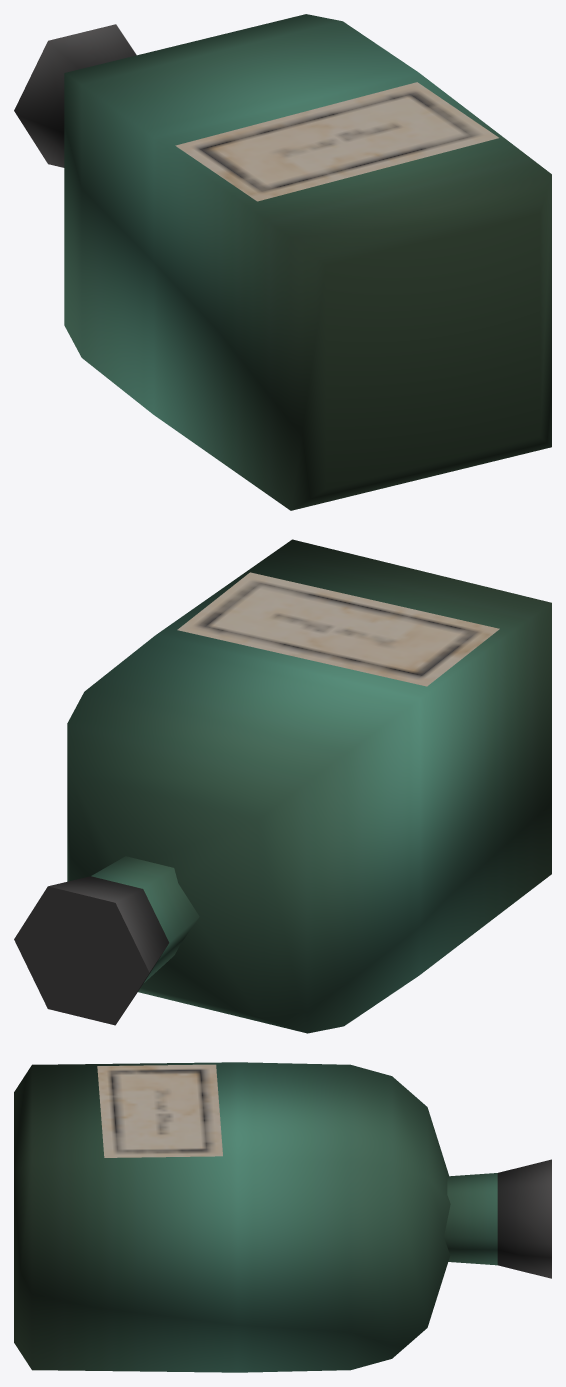
The model's file is Bottle_C.fbx.
3 views of the same model, one above another, from view 1: azimuth 30°, elevation 25°; view 2: azimuth 150°, elevation 25°; view 3: azimuth 270°, elevation 25° (orthographic). The views are drawn at different scales.
Parts seen in each view (by area): view 1: Bottle_C; view 2: Bottle_C; view 3: Bottle_C.
Part boxes in pixels (x1=…): Bottle_C: x1=14, y1=14, x2=551, y2=510; Bottle_C: x1=14, y1=539, x2=551, y2=1033; Bottle_C: x1=14, y1=1062, x2=551, y2=1372.
Size of the model in its own units: 0.2322 by 0.2324 by 0.5343.
